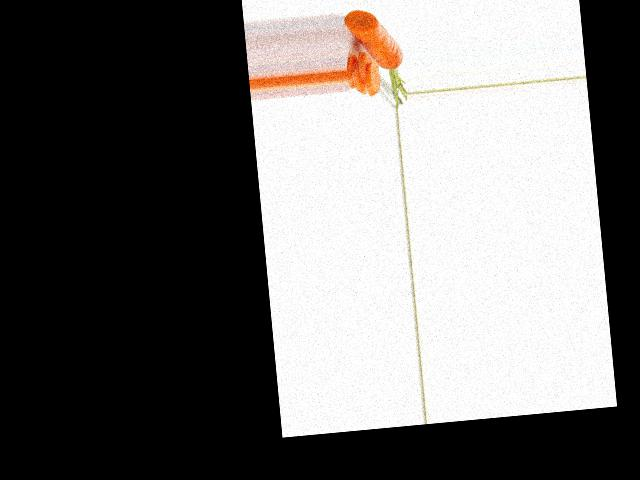carrot: (347, 10, 404, 73)
